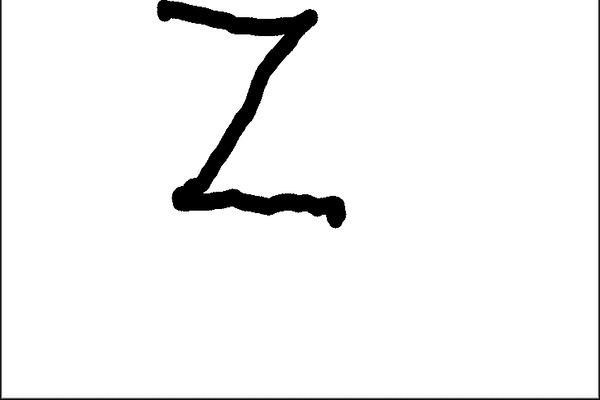Z: (151, 0, 355, 237)
